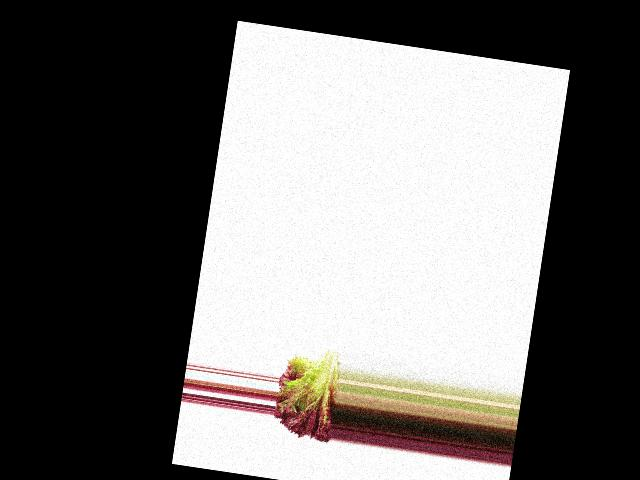lettuce: (271, 340, 343, 448)
